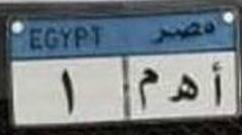1: (61, 67, 75, 112)
alif: (207, 58, 228, 107)
haa: (169, 71, 202, 105)
meem: (133, 65, 162, 109)
